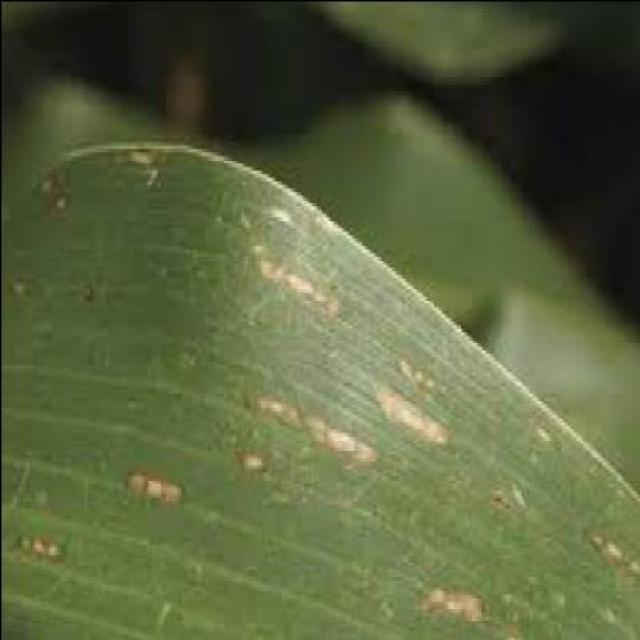Corn_Grey_Leaf_Spot: (6, 140, 640, 640)
